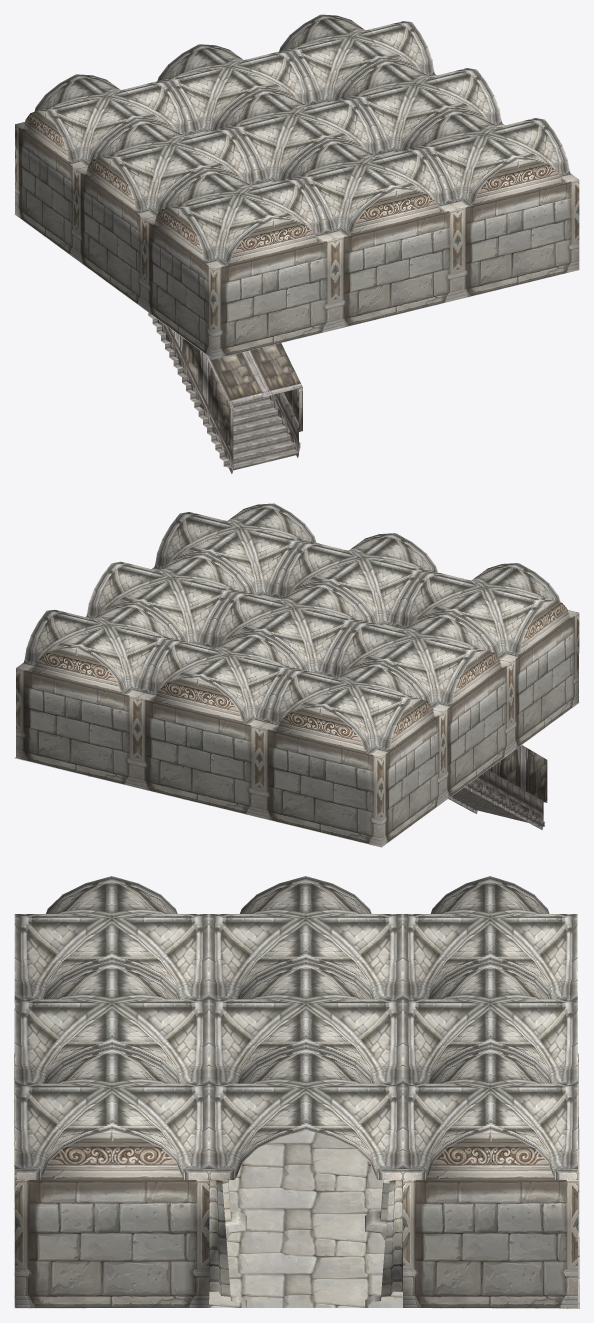
The model's file is stormwind_131.fbx.
The picture shows the model from 3 angles, top to bottom: view 1: azimuth 30°, elevation 25°; view 2: azimuth 150°, elevation 25°; view 3: azimuth 270°, elevation 25°; orthographic projection. The views are drawn at different scales.
Parts seen in each view (by area): view 1: stormwind_131_111, stormwind_131_62, stormwind_131_152, stormwind_131_158, stormwind_131_154, stormwind_131_52; view 2: stormwind_131_111, stormwind_131_62, stormwind_131_152, stormwind_131_154, stormwind_131_158, stormwind_131_52; view 3: stormwind_131_111, stormwind_131_62, stormwind_131_52, stormwind_131_60, stormwind_131_61.
Boxes of the visible parts, left/top/right/bottom form: stormwind_131_111: left=15, top=14, right=578, bottom=268; stormwind_131_62: left=15, top=110, right=579, bottom=359; stormwind_131_152: left=171, top=329, right=302, bottom=448; stormwind_131_158: left=148, top=312, right=300, bottom=470; stormwind_131_154: left=157, top=319, right=298, bottom=473; stormwind_131_52: left=14, top=214, right=578, bottom=359; stormwind_131_111: left=16, top=503, right=578, bottom=757; stormwind_131_62: left=16, top=601, right=579, bottom=846; stormwind_131_152: left=488, top=745, right=547, bottom=802; stormwind_131_154: left=448, top=770, right=546, bottom=830; stormwind_131_158: left=451, top=783, right=544, bottom=826; stormwind_131_52: left=14, top=702, right=579, bottom=847; stormwind_131_111: left=14, top=876, right=577, bottom=1179; stormwind_131_62: left=14, top=997, right=578, bottom=1307; stormwind_131_52: left=14, top=1053, right=579, bottom=1308; stormwind_131_60: left=14, top=1008, right=402, bottom=1298; stormwind_131_61: left=14, top=1001, right=577, bottom=1307.
Bounding box in the file's own units: 28.49 × 18.75 × 26.68.
